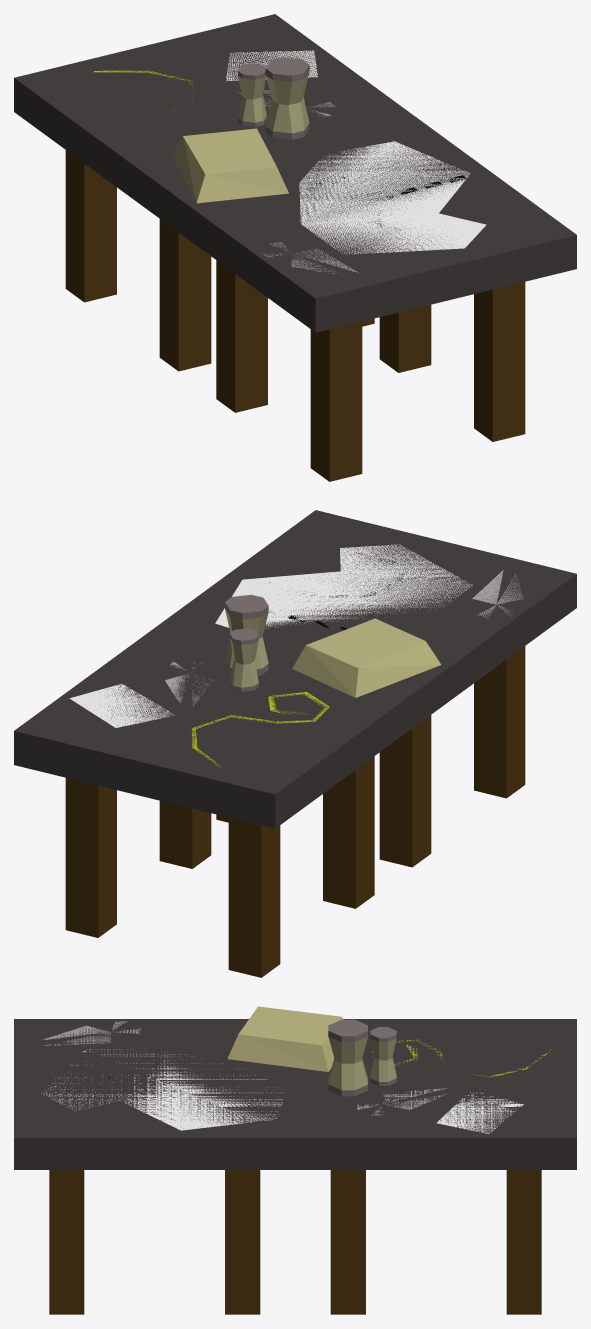
Rendered from obj_table_15_0.obj.
The picture shows the model from 3 angles, top to bottom: view 1: azimuth 30°, elevation 25°; view 2: azimuth 150°, elevation 25°; view 3: azimuth 270°, elevation 25°; orthographic projection. The views are drawn at different scales.
Bounding box in the file's own units: 1 × 0.9844 × 2.
